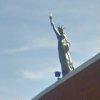Statue: (43, 5, 84, 82)
